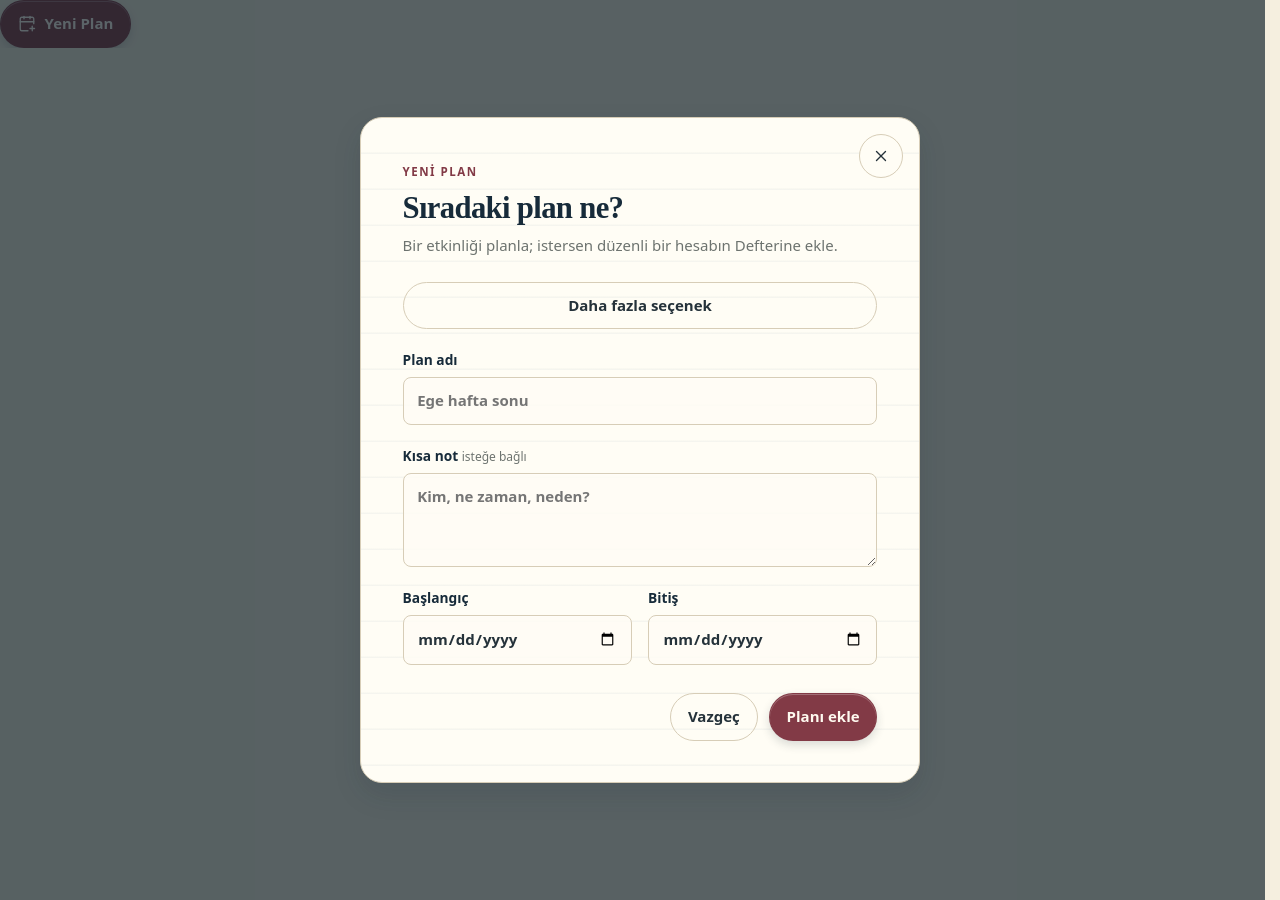
Test case: Ledger and Plan management flows › keeps optional Ledger and currency details out of quick Plan creation
Expected: the field labelled "Deftere ekle" is not shown
Expected: the field labelled "Para birimi" is not shown
Click the button "Daha fazla seçenek".
click(640, 305)  # box [403,282,877,329]
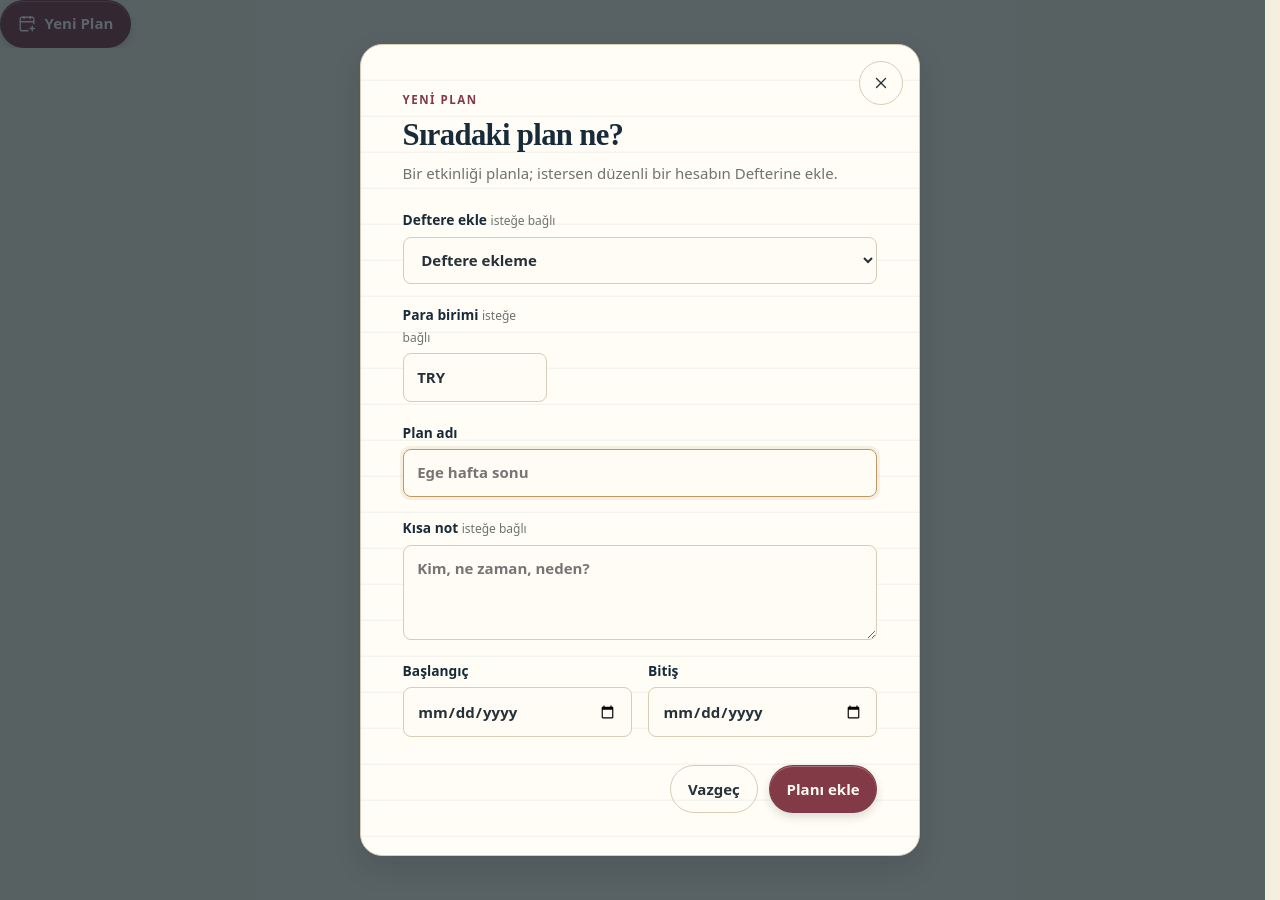
Now the dropdown labelled "Deftere ekle isteğe bağlı" is shown, box [403,237,877,284]
Now the field labelled "Para birimi isteğe bağlı" is shown, box [403,353,547,402]
